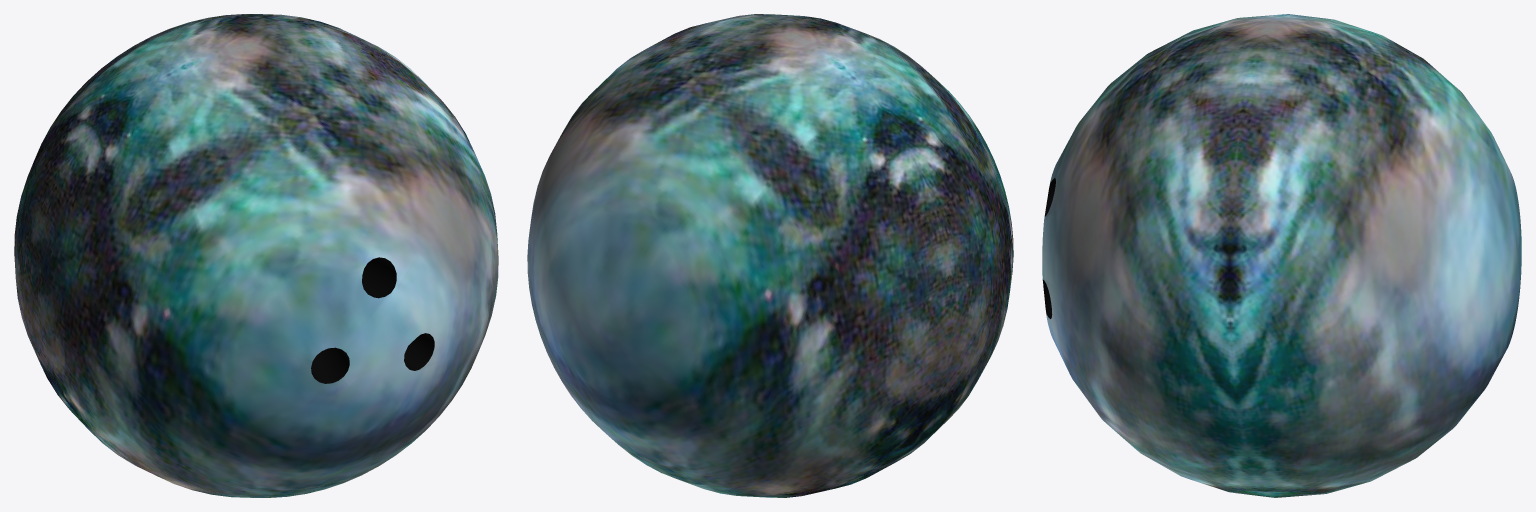
The model's file is BallT2.FBX.
The picture shows the model from 3 angles, left to right: view 1: azimuth 30°, elevation 25°; view 2: azimuth 150°, elevation 25°; view 3: azimuth 270°, elevation 25°; orthographic projection.
Visible parts, largest first — view 1: Ball2; view 2: Ball2; view 3: Ball2.
Boxes of the visible parts, box(x1,y1,x2,y2) form: Ball2: box(14, 14, 498, 497); Ball2: box(527, 14, 1013, 497); Ball2: box(1042, 14, 1521, 497).
Size of the model in its own units: 180 by 178 by 180.
